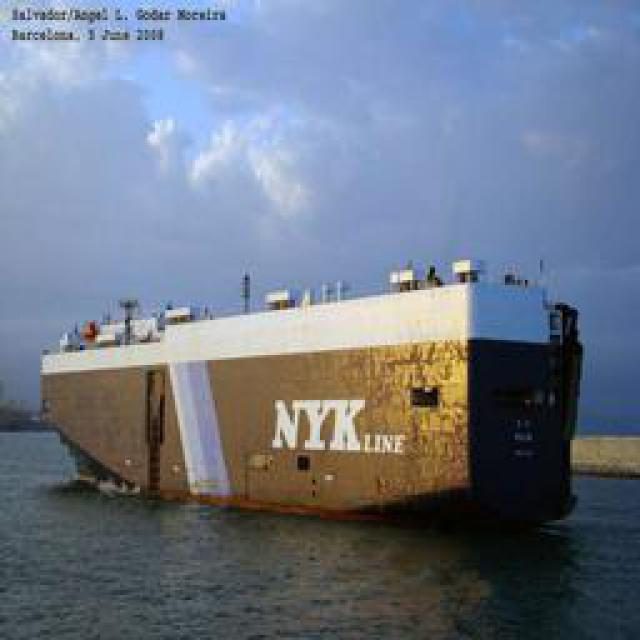Ship: (32, 249, 585, 522)
